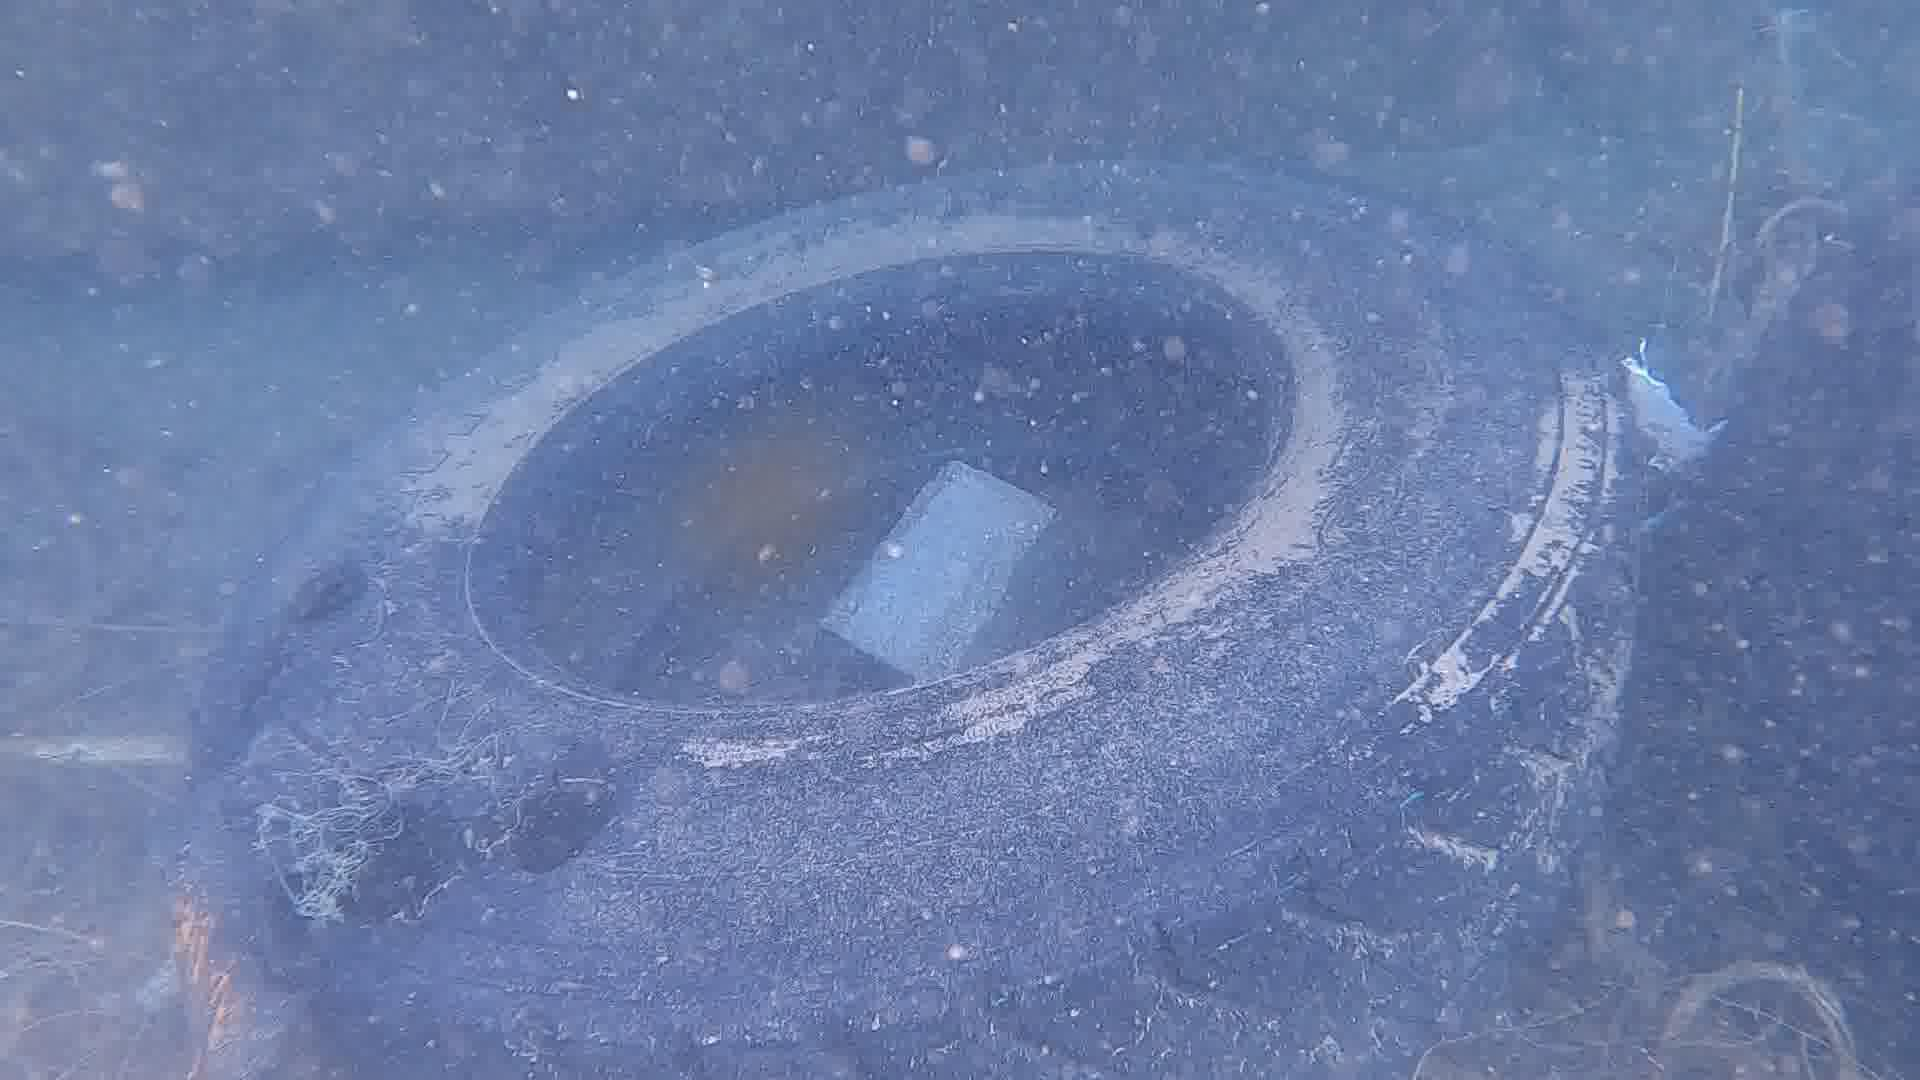tire: (175, 150, 1646, 1080)
